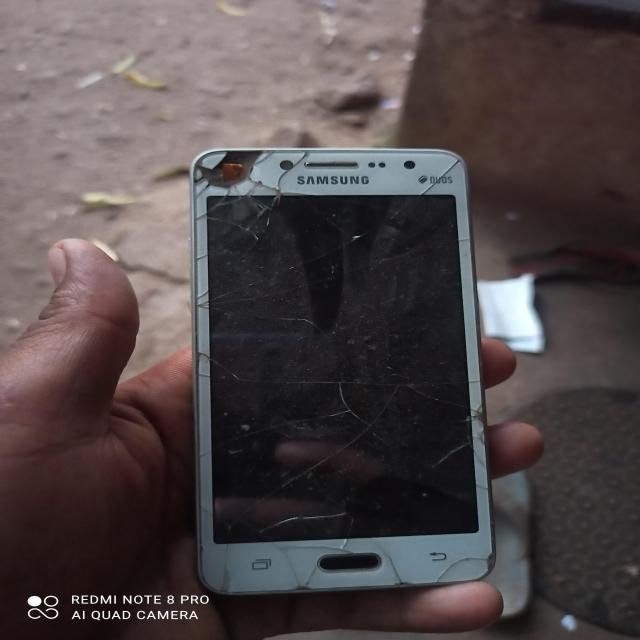cellphone: (142, 114, 564, 632)
